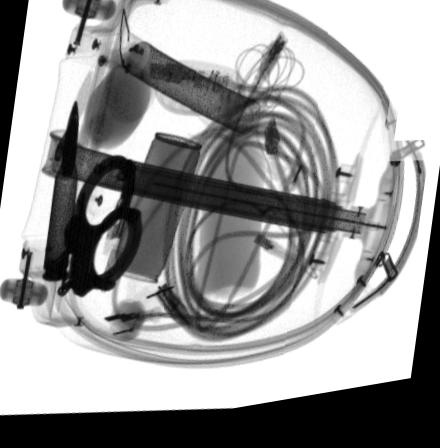Bullet: (40, 105, 79, 283)
HandCuffs: (55, 156, 143, 302)
